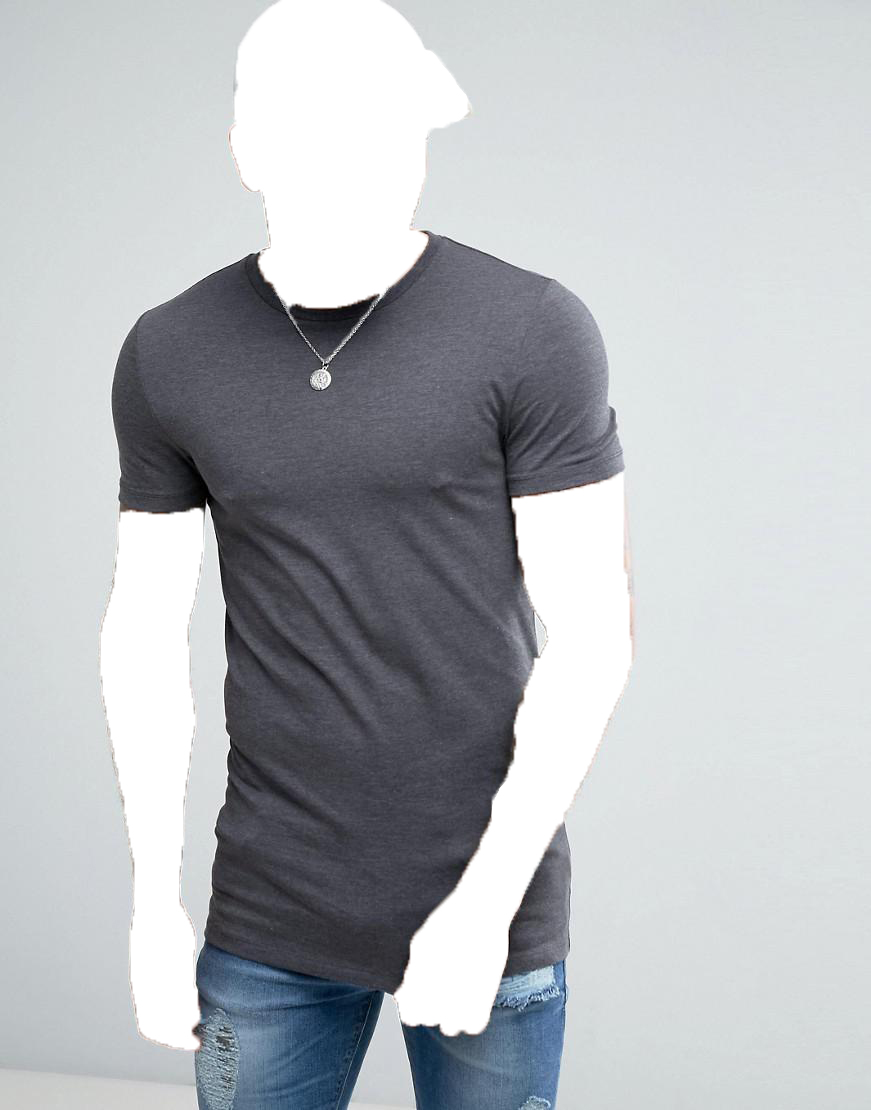teeshirt: (108, 230, 625, 983)
